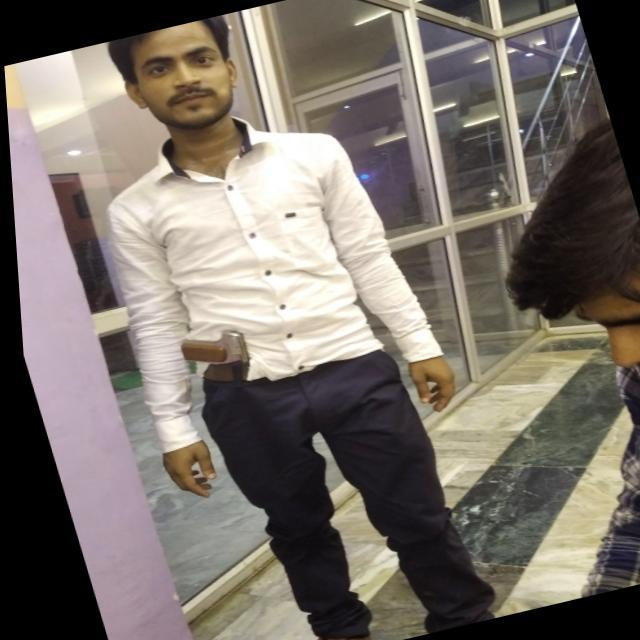weapon: (170, 324, 262, 414)
